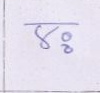anusvara: (62, 33, 71, 41)
